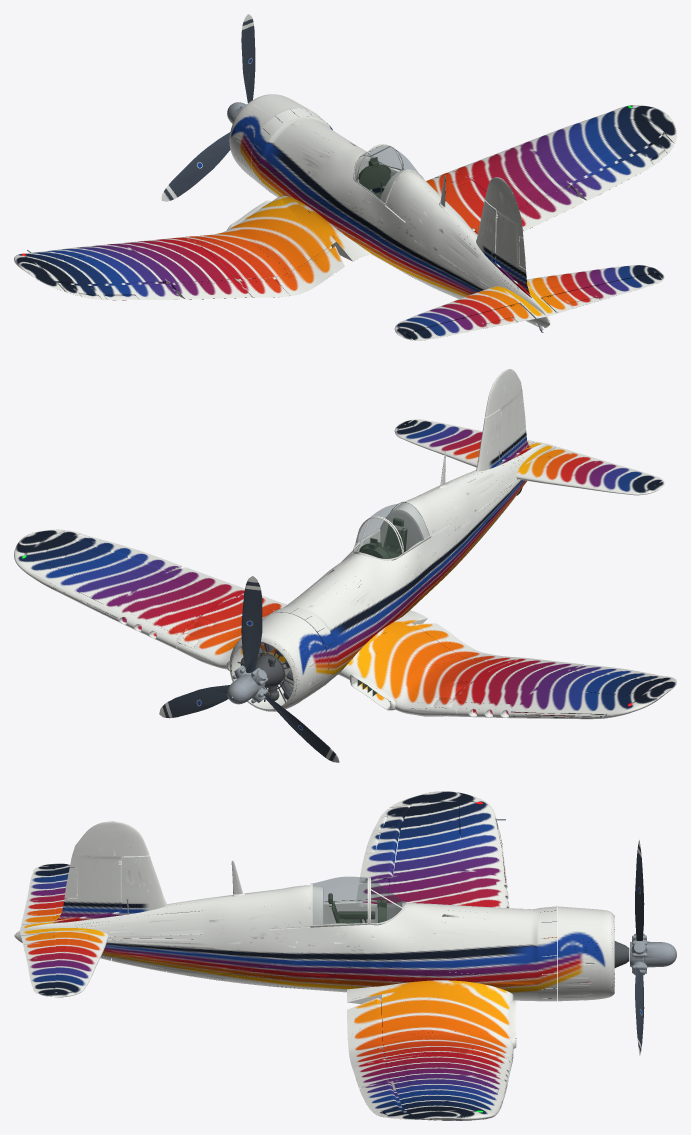
File: f4u_corsair_spectrum.glb
The picture shows the model from 3 angles, top to bottom: view 1: azimuth 30°, elevation 25°; view 2: azimuth 150°, elevation 25°; view 3: azimuth 270°, elevation 25°; orthographic projection. The views are drawn at different scales.
Visible parts, largest first — view 1: fuselage_core, wing_right_fixed, wing_center_fixed, wing_left_fixed, stabilizer_fixed, elevator, cowl, propeller_rotor, rudder, aileron_right, canopy_glass, flap_left_1 (+6 smaller); view 2: fuselage_core, wing_center_fixed, wing_right_fixed, wing_left_fixed, cowl, propeller_rotor, stabilizer_fixed, rudder, elevator, canopy_glass, engine_face, windshield_glass (+6 smaller); view 3: fuselage_core, wing_left_fixed, wing_center_fixed, wing_right_fixed, cowl, rudder, stabilizer_fixed, elevator, propeller_rotor, canopy_glass, fin_fixed, aileron_left (+7 smaller).
Boxes of the visible parts, x1=… form: fuselage_core: x1=259, y1=116, x2=550, y2=327; wing_right_fixed: x1=452, y1=105, x2=676, y2=207; wing_center_fixed: x1=179, y1=170, x2=486, y2=279; wing_left_fixed: x1=14, y1=237, x2=235, y2=292; stabilizer_fixed: x1=394, y1=265, x2=664, y2=340; elevator: x1=406, y1=273, x2=662, y2=340; cowl: x1=229, y1=94, x2=332, y2=195; propeller_rotor: x1=161, y1=14, x2=255, y2=201; rudder: x1=485, y1=177, x2=529, y2=293; aileron_right: x1=570, y1=134, x2=674, y2=200; canopy_glass: x1=358, y1=146, x2=418, y2=202; flap_left_1: x1=275, y1=246, x2=344, y2=295; fuselage_core: x1=260, y1=443, x2=546, y2=687; wing_center_fixed: x1=175, y1=597, x2=506, y2=716; wing_right_fixed: x1=14, y1=529, x2=235, y2=649; wing_left_fixed: x1=446, y1=663, x2=676, y2=719; cowl: x1=229, y1=607, x2=337, y2=711; propeller_rotor: x1=159, y1=576, x2=339, y2=762; stabilizer_fixed: x1=394, y1=419, x2=664, y2=495; rudder: x1=485, y1=369, x2=530, y2=459; elevator: x1=407, y1=419, x2=662, y2=485; canopy_glass: x1=359, y1=502, x2=428, y2=551; engine_face: x1=237, y1=642, x2=292, y2=702; windshield_glass: x1=354, y1=518, x2=401, y2=558; fuselage_core: x1=14, y1=860, x2=541, y2=1001; wing_left_fixed: x1=387, y1=791, x2=509, y2=908; wing_center_fixed: x1=347, y1=980, x2=516, y2=1065; wing_right_fixed: x1=385, y1=1053, x2=511, y2=1120; cowl: x1=538, y1=906, x2=614, y2=1001; rudder: x1=55, y1=821, x2=149, y2=920; stabilizer_fixed: x1=20, y1=863, x2=108, y2=997; elevator: x1=21, y1=866, x2=55, y2=993; propeller_rotor: x1=630, y1=840, x2=676, y2=1055; canopy_glass: x1=313, y1=877, x2=367, y2=924; fin_fixed: x1=53, y1=855, x2=167, y2=923; aileron_left: x1=359, y1=805, x2=410, y2=882.
Size of the model in its own units: 2.78 by 0.7704 by 2.38.
14 materials, 6 textured.
